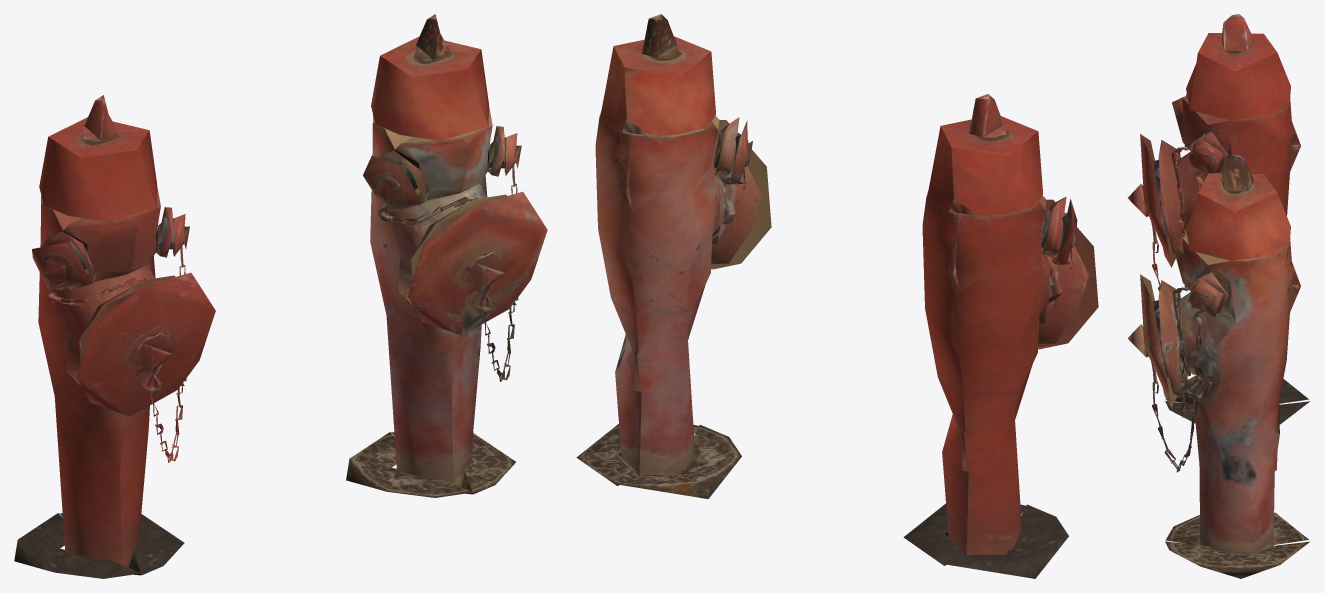
Rendered from hydrant.glb.
The picture shows the model from 3 angles, left to right: view 1: azimuth 30°, elevation 25°; view 2: azimuth 150°, elevation 25°; view 3: azimuth 270°, elevation 25°; orthographic projection. The views are drawn at different scales.
Parts seen in each view (by area): view 1: hydrant; view 2: hydrant; view 3: hydrant.
Part boxes in pixels (x1,y1,x2,y2): hydrant: (14, 14, 547, 578); hydrant: (576, 14, 1098, 578); hydrant: (1127, 14, 1309, 578).
Bounding box in the file's own units: 0.864 × 0.8048 × 0.3307.
2 materials, 2 textured.
